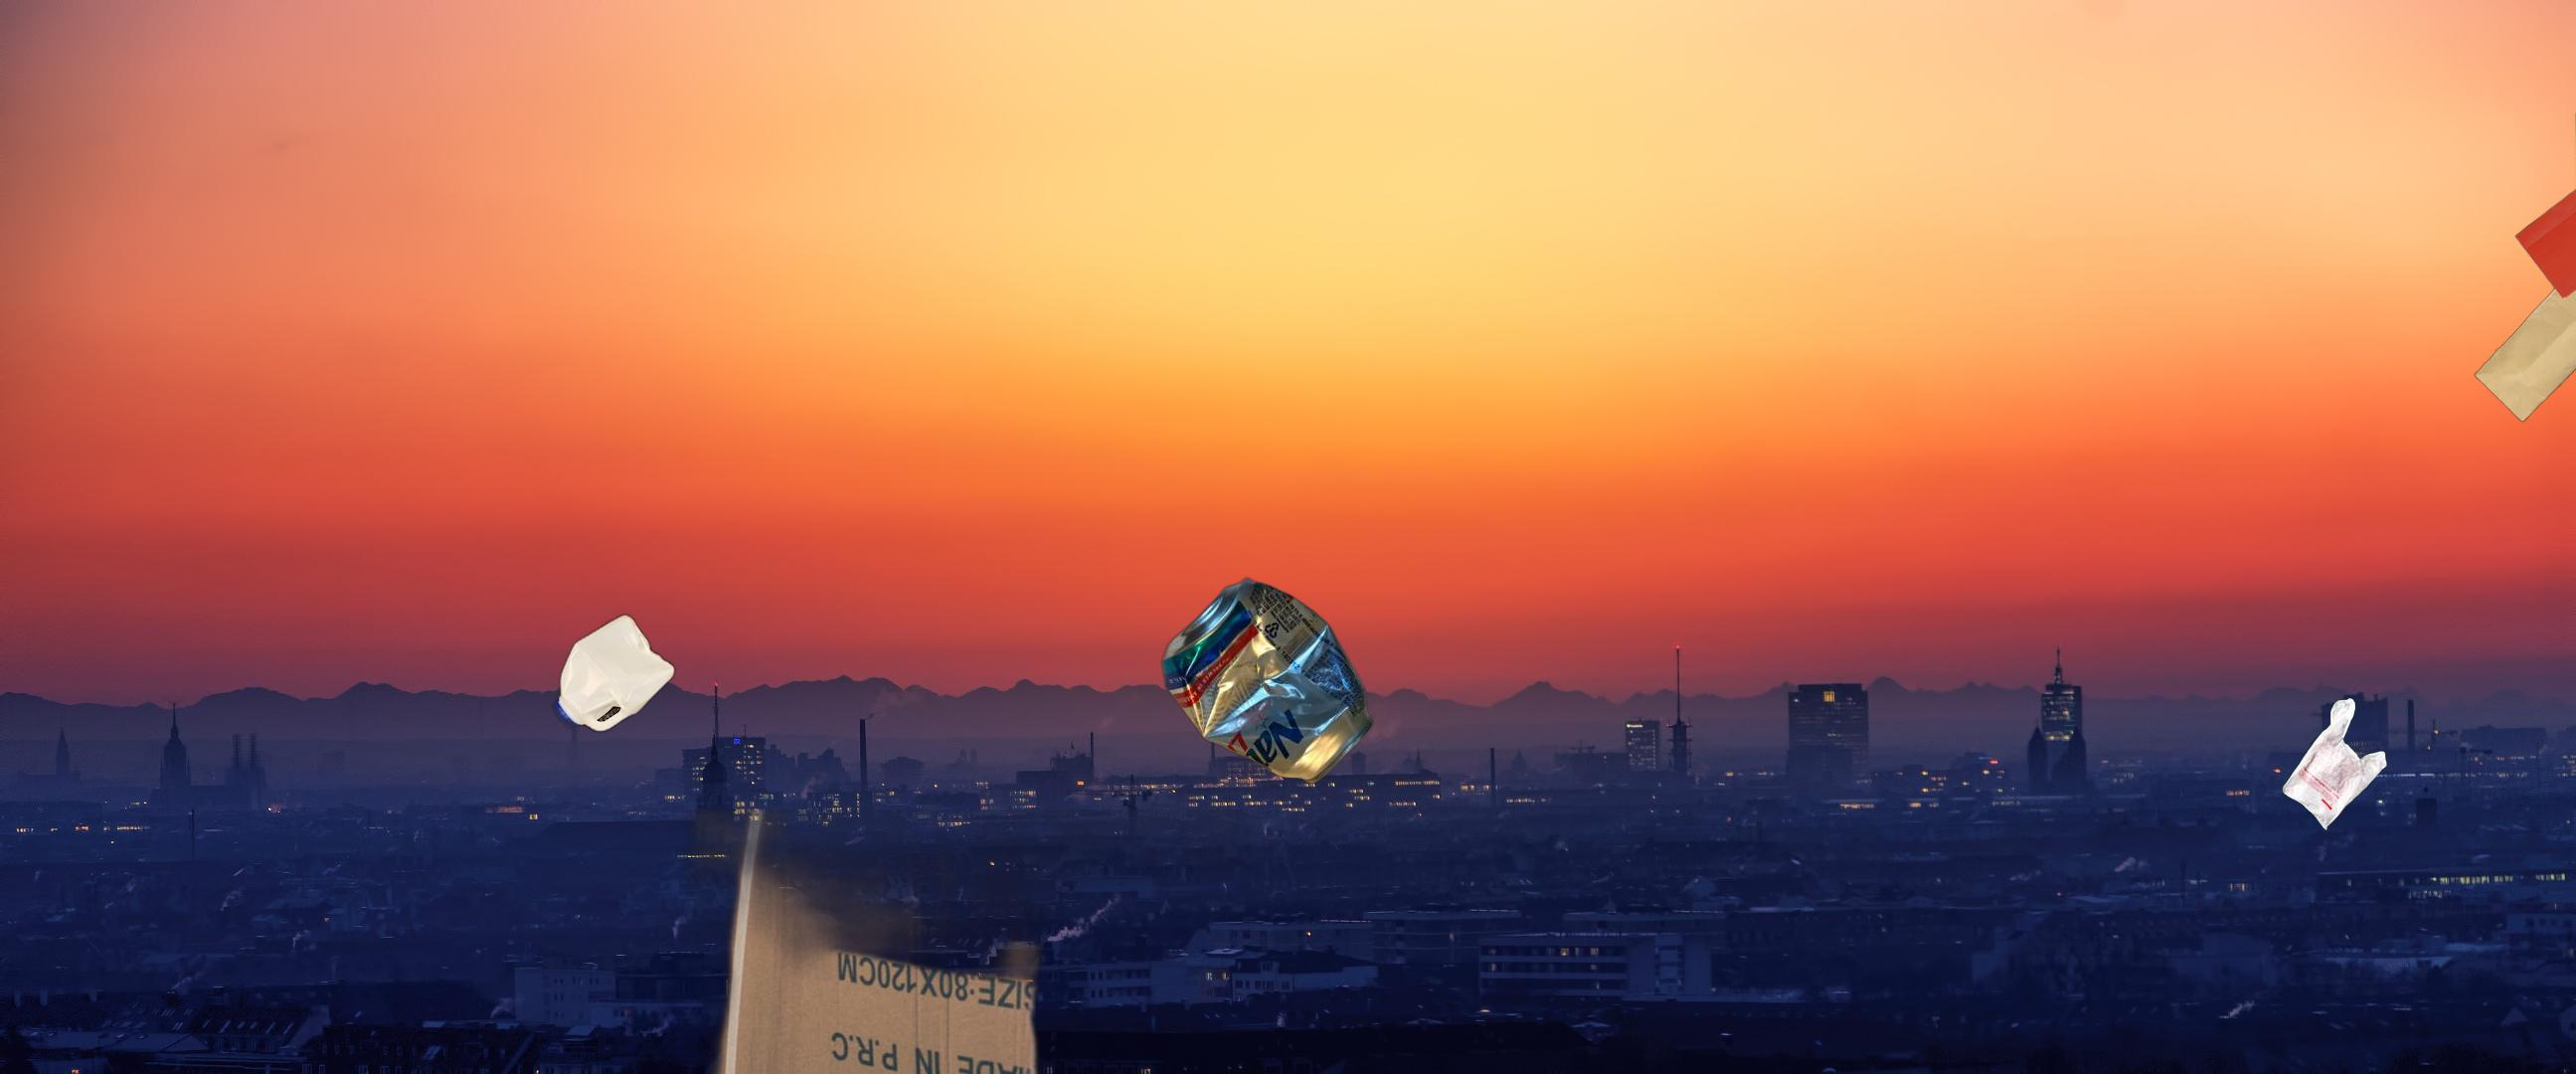metal-cans: (1157, 573, 1378, 787)
paper-bag: (2471, 172, 2576, 425)
plastic-bag: (2280, 696, 2389, 833)
plastic-bottles: (547, 608, 678, 737)
trashbox-cardboard: (669, 810, 1291, 1074)
